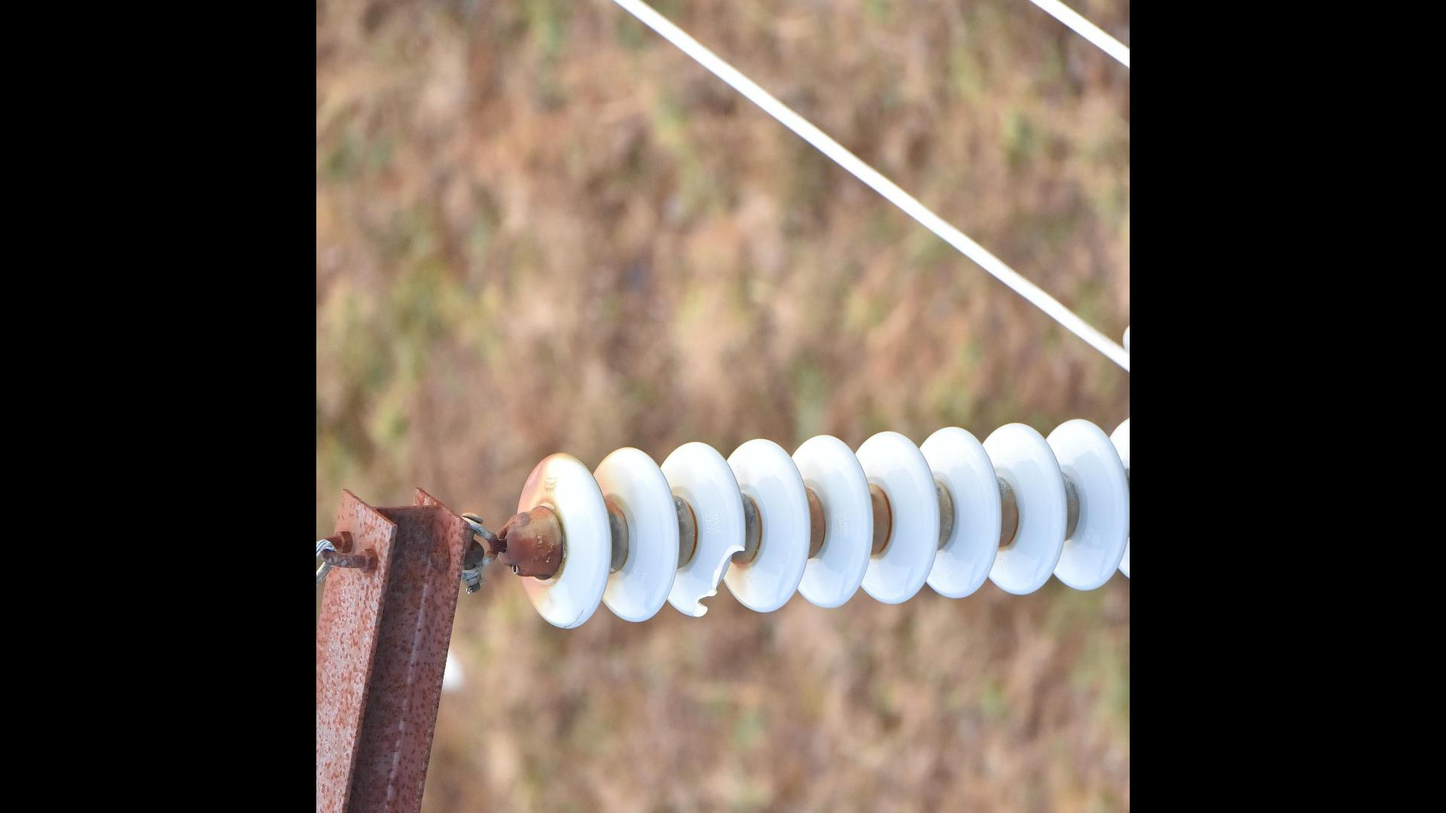insulator: (508, 405, 1130, 635)
insulator_breakage: (688, 537, 749, 620)
